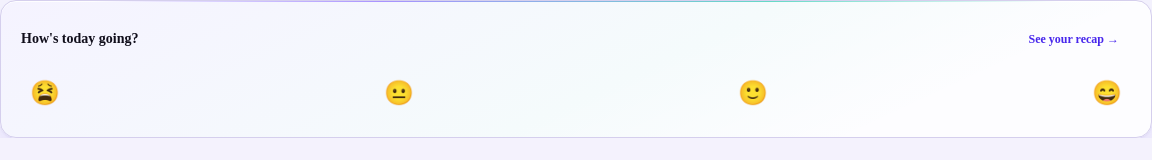
Test: MoodCheckInCard › removes a first-ever check-in again when its save fails
The image size is (1152, 160).
Click the button named "Good" at (753, 93), box [729,69,777,117]
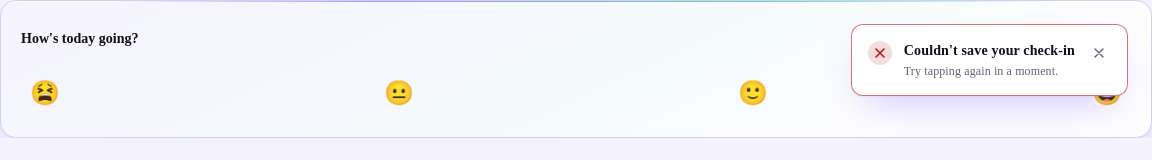
Result: the heading "Couldn't save your check-in" is shown at [904,41,1075,61]
